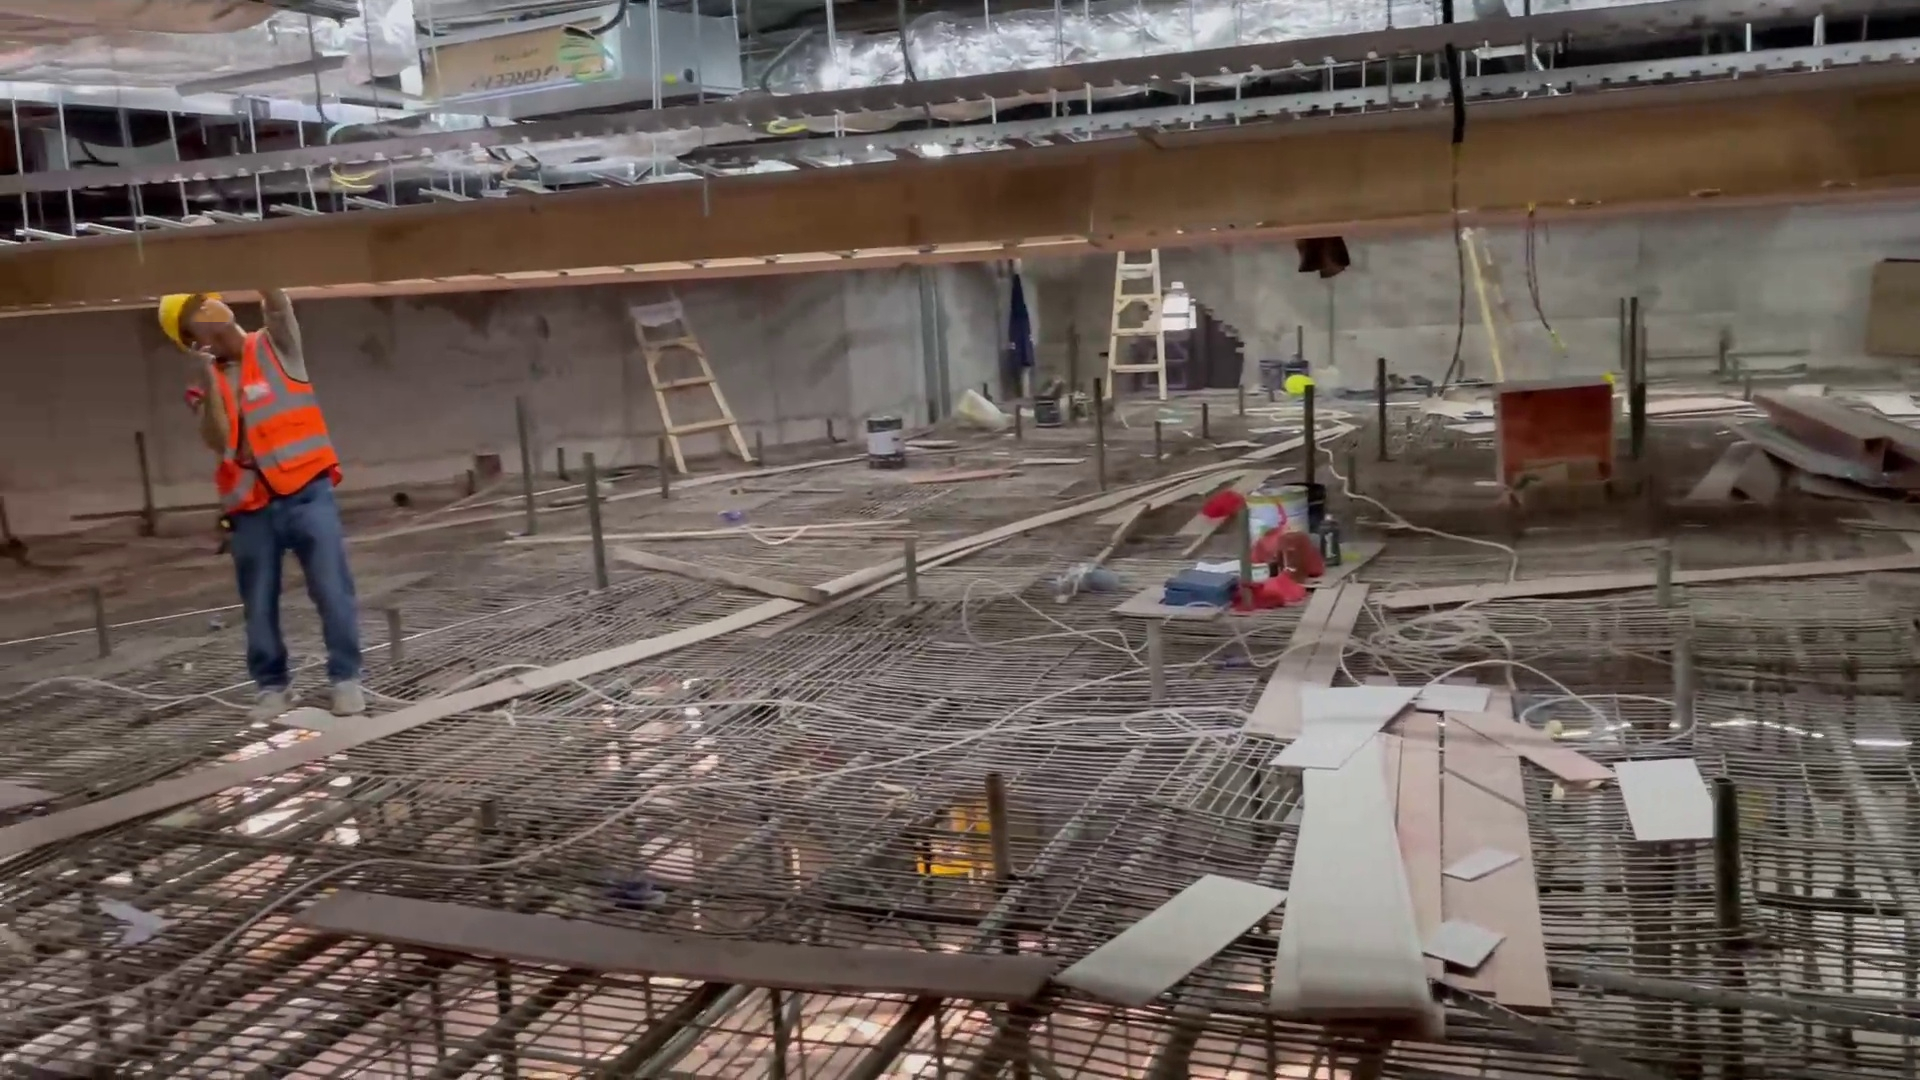helmet: (153, 294, 229, 356), (1280, 370, 1315, 393)
person: (146, 291, 369, 725)
vest: (197, 341, 347, 508)
